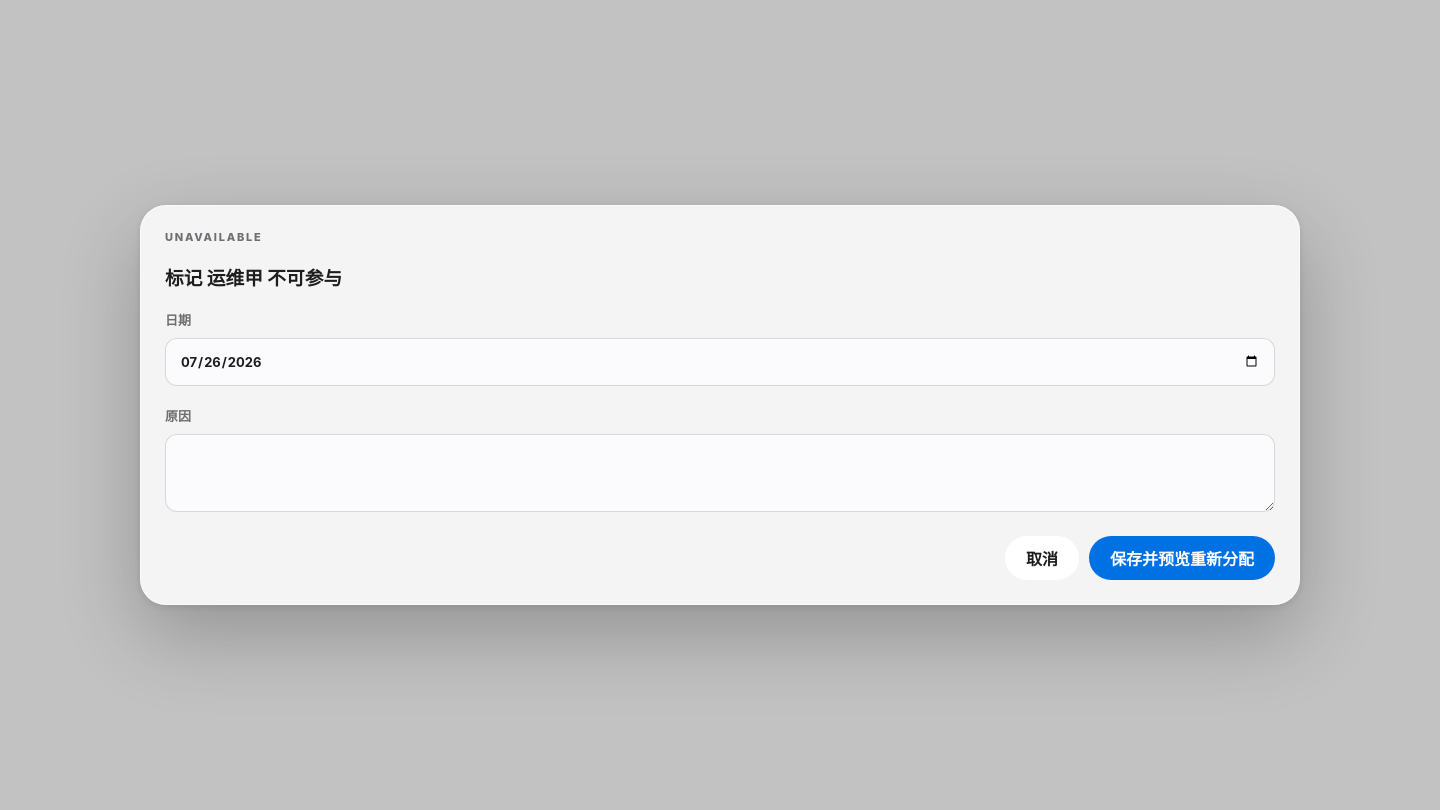
Test: people redistribution workflow › requires a nonblank unavailability reason
What coordinates should you click on to do the following:
click the button with test id "save-unavailable"
I would click on:
 (1182, 558)
Its box is [1089,536,1275,580].
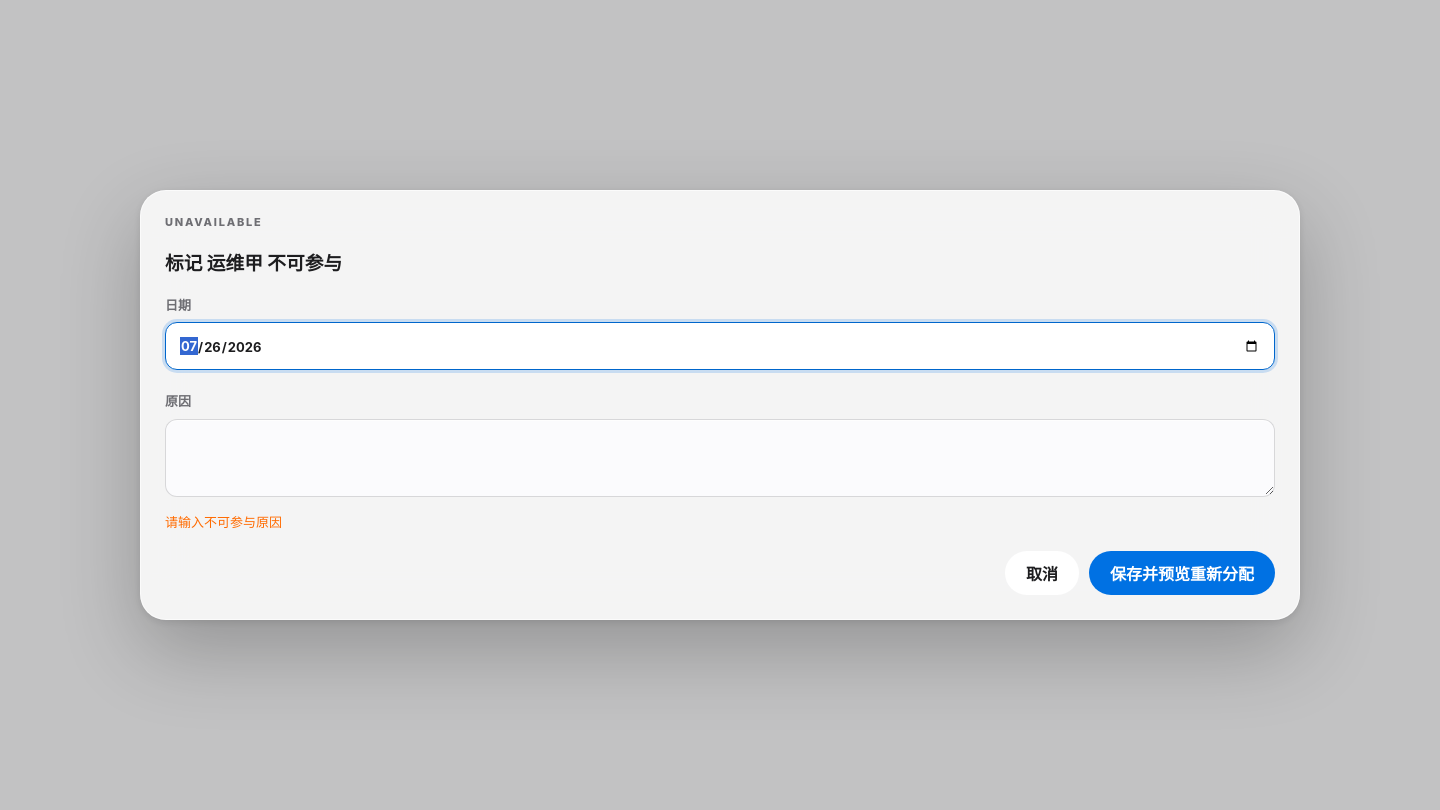
Expected: the dialog shows "请输入不可参与原因", [165,514,282,530]
